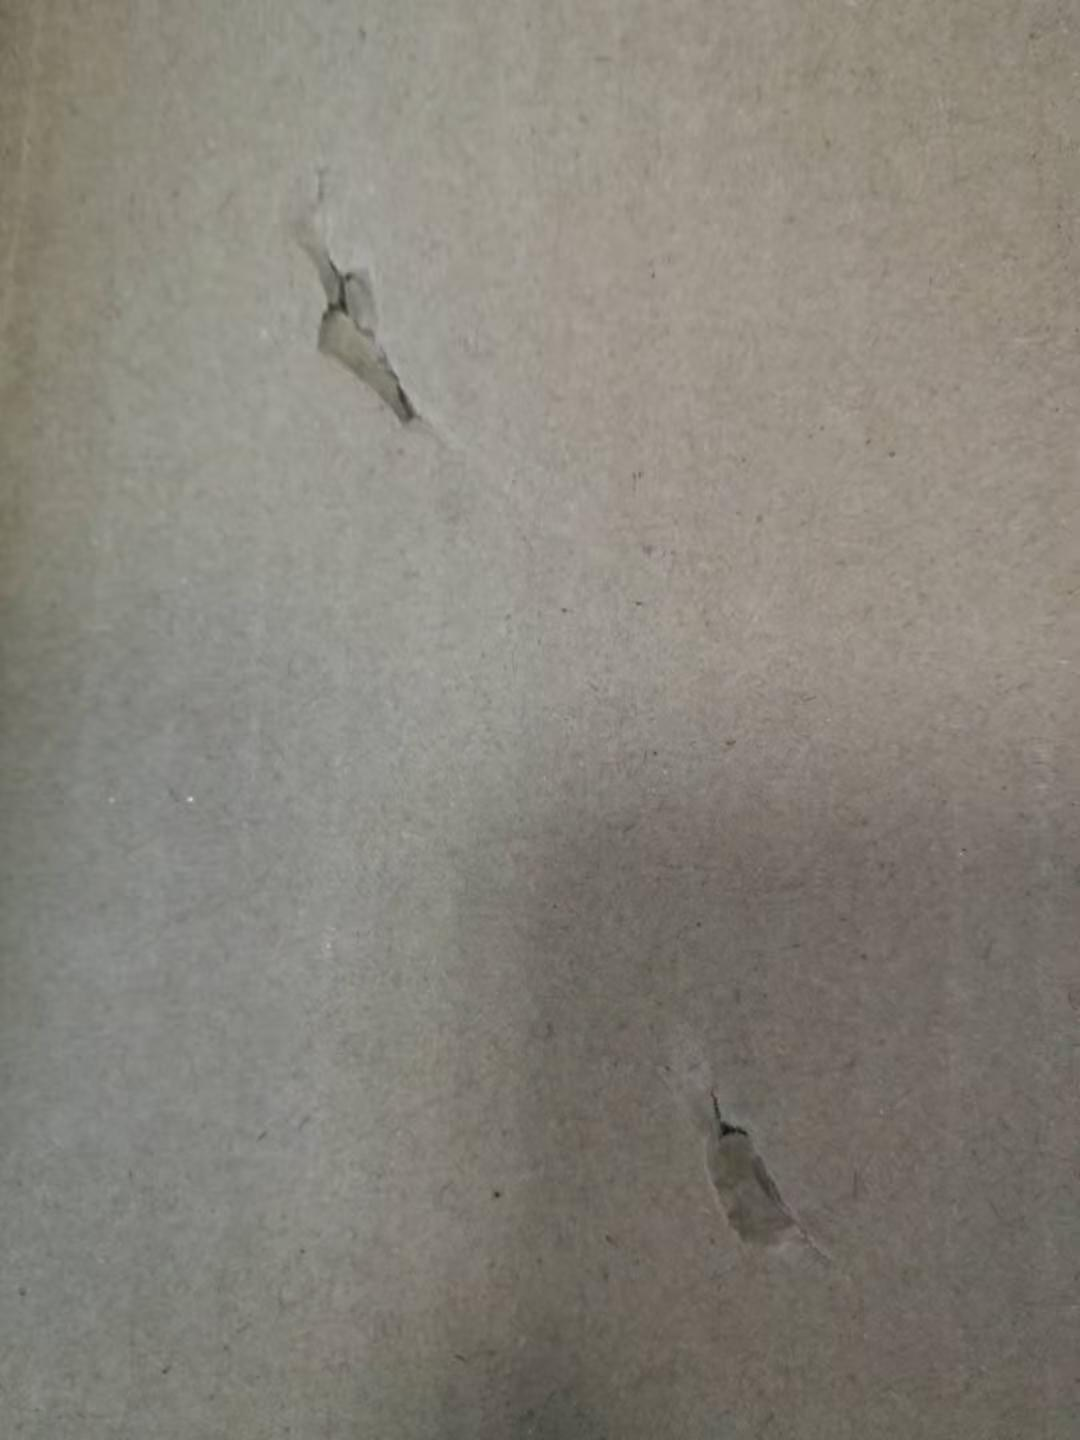defect: (231, 118, 495, 493), (643, 1005, 845, 1299)
